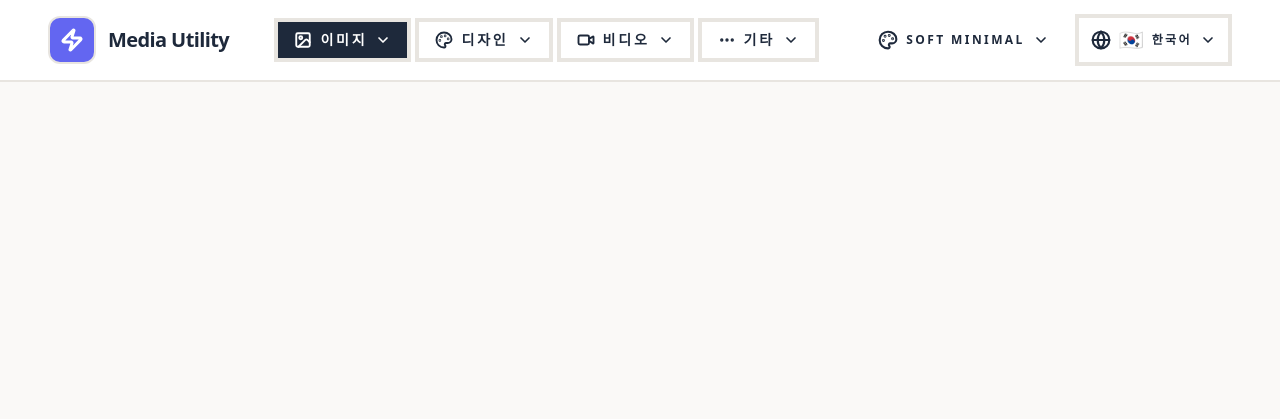
Header › 카테고리 클릭 시 드롭다운이 열려야 함
Click the button "이미지" at (343, 40), box [274,18,411,62]
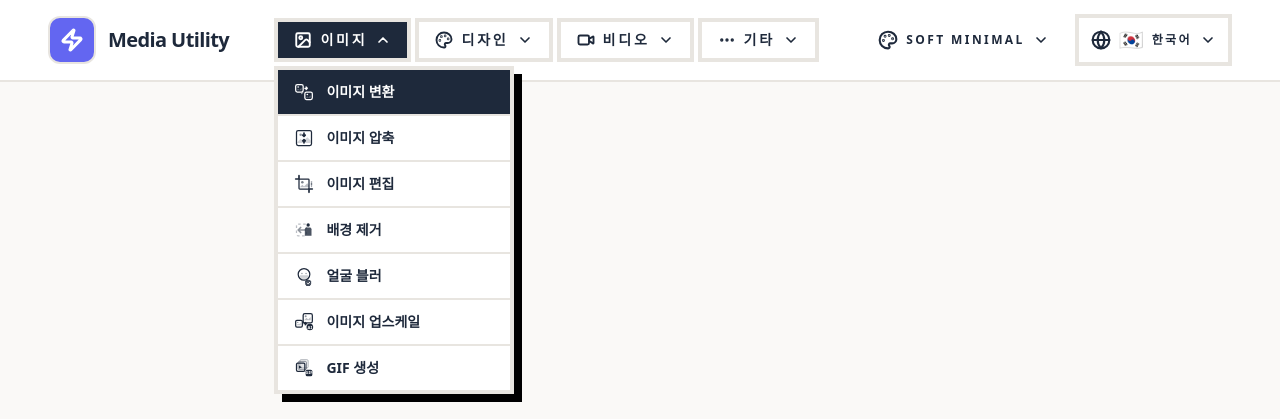
Check: the text "이미지 변환" is shown, box [326,82,394,102]
Check: the text "이미지 압축" is shown, box [326,128,394,148]
Check: the text "이미지 편집" is shown, box [326,174,394,194]
